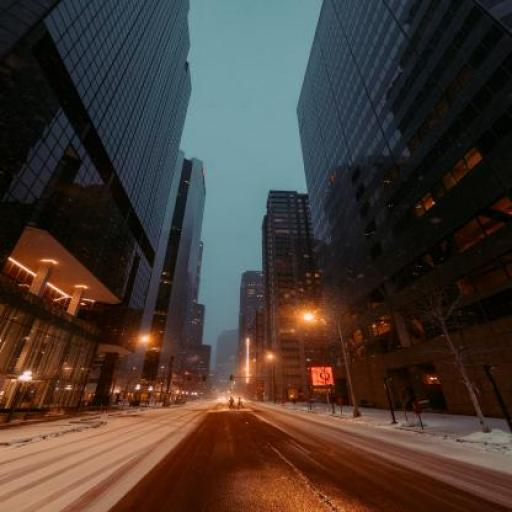street light: (302, 314, 360, 417), (124, 336, 148, 406), (8, 372, 34, 422), (267, 356, 277, 404), (146, 386, 154, 404)
